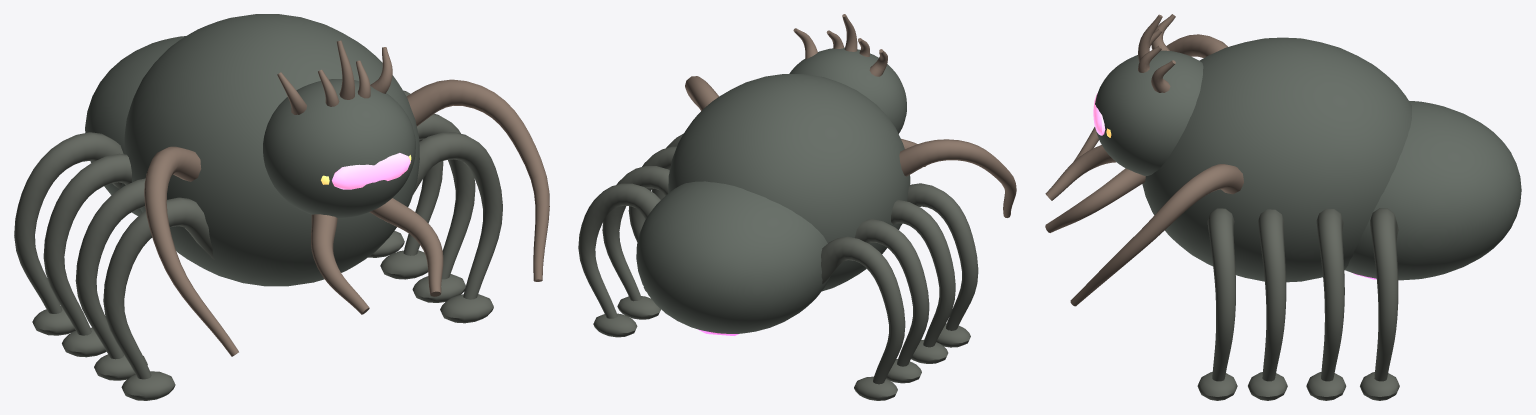
Rendered from alien_boss.glb.
3 renders of one model, left to right at view 1: azimuth 30°, elevation 25°; view 2: azimuth 150°, elevation 25°; view 3: azimuth 270°, elevation 25°, orthographic. The views are drawn at different scales.
Parts seen in each view (by area): view 1: AlienBoss; view 2: AlienBoss; view 3: AlienBoss.
Part boxes in pixels (x1,y1,x2,y2): AlienBoss: [14, 14, 549, 400]; AlienBoss: [578, 14, 1016, 400]; AlienBoss: [1045, 14, 1521, 400].
Size of the model in its own units: 2.49 by 2.05 by 2.85.
